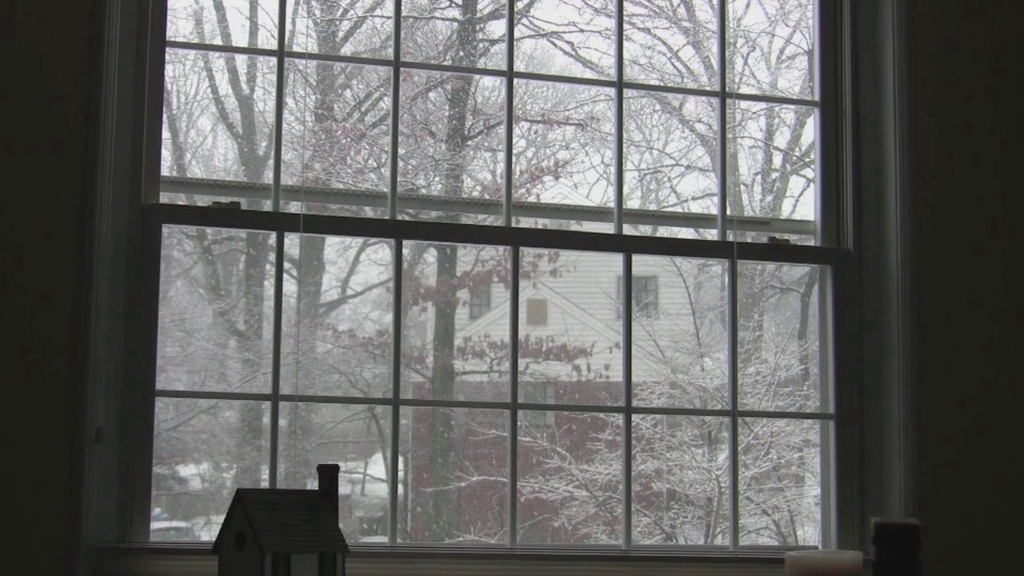Window: (27, 0, 1002, 562)
